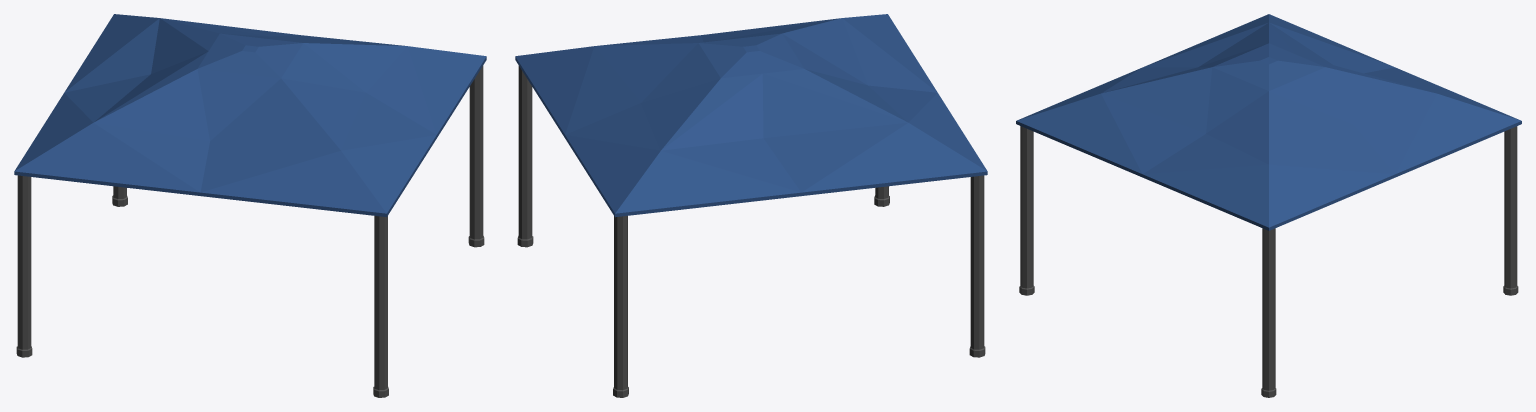
File: TT_tent_Blue.fbx
The picture shows the model from 3 angles, left to right: view 1: azimuth 30°, elevation 25°; view 2: azimuth 150°, elevation 25°; view 3: azimuth 270°, elevation 25°; orthographic projection. The views are drawn at different scales.
Parts seen in each view (by area): view 1: Indian_tent_Blue; view 2: Indian_tent_Blue; view 3: Indian_tent_Blue.
Part boxes in pixels (x1,y1,x2,y2): Indian_tent_Blue: (14, 14, 486, 397); Indian_tent_Blue: (515, 14, 987, 397); Indian_tent_Blue: (1016, 14, 1521, 397).
Bounding box in the file's own units: 80.08 × 40.53 × 80.08.
